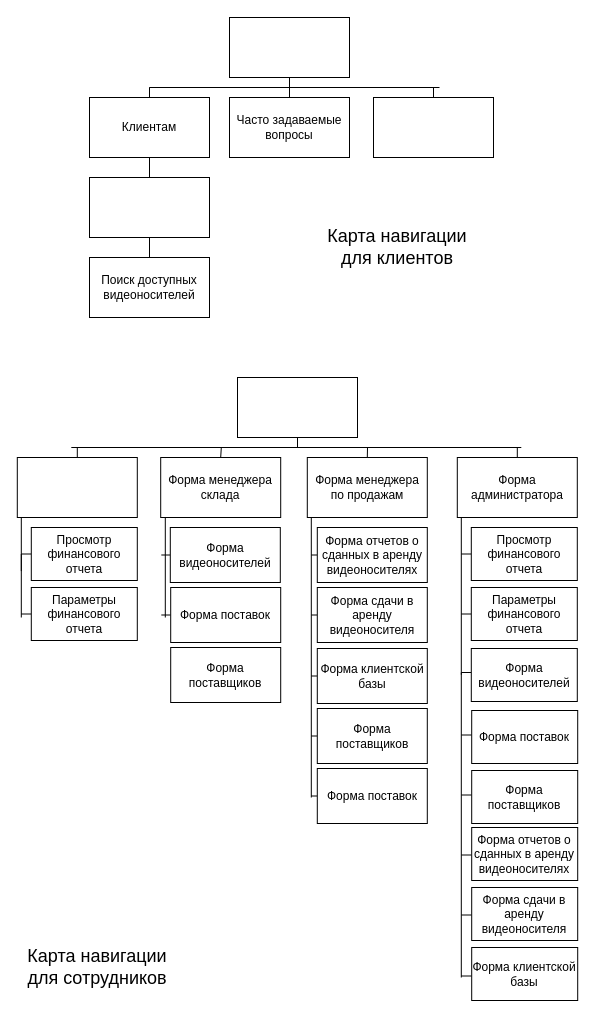
The diagram is 596 pixels wide and 1025 high, and some of its shapes have lost their labels. Here are the shapes that lost their labels. From the top down, the centre of each, then its label:
the point at 289,47: Главная форма
the point at 433,127: Подробнее о нас
the point at 149,207: Доступные видеоносители
the point at 297,407: Форма авторизации пользователя
the point at 76,487: Форма бухгалтера
